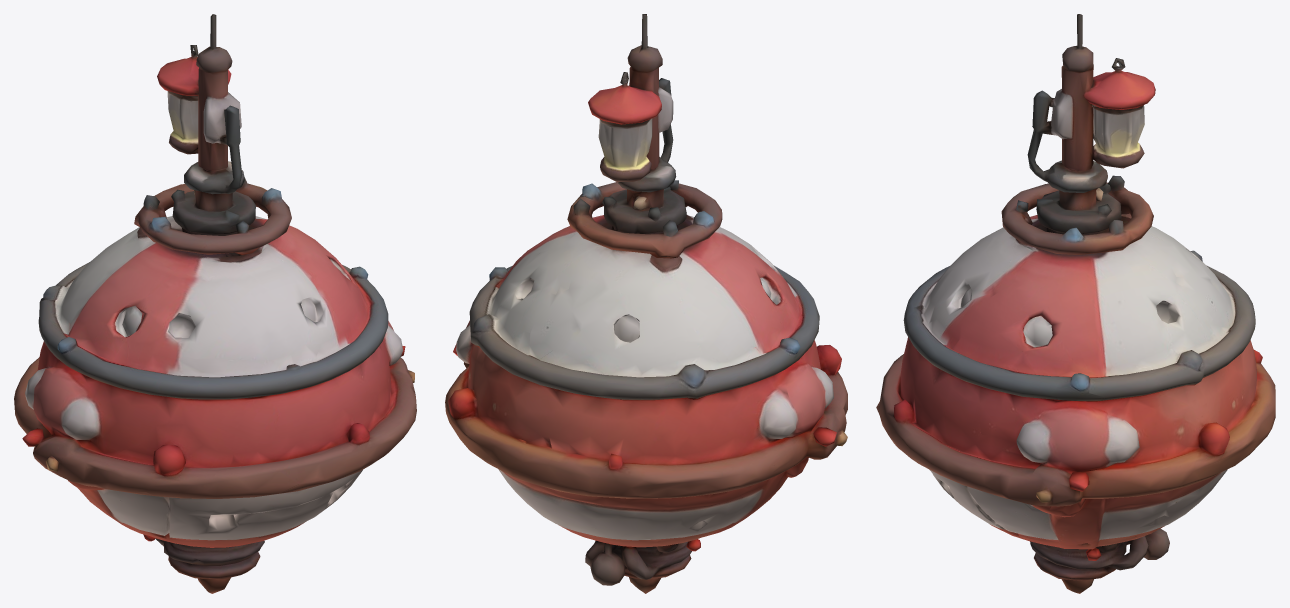
Rendered from talk-buoy.glb.
The picture shows the model from 3 angles, left to right: view 1: azimuth 30°, elevation 25°; view 2: azimuth 150°, elevation 25°; view 3: azimuth 270°, elevation 25°; orthographic projection.
Visible parts, largest first — view 1: tripo_node_931b73df-f0f5-4013-b792-71ee47dcda40; view 2: tripo_node_931b73df-f0f5-4013-b792-71ee47dcda40; view 3: tripo_node_931b73df-f0f5-4013-b792-71ee47dcda40.
Part boxes in pixels (<box>): tripo_node_931b73df-f0f5-4013-b792-71ee47dcda40: <box>14,14,416,593</box>; tripo_node_931b73df-f0f5-4013-b792-71ee47dcda40: <box>445,14,847,593</box>; tripo_node_931b73df-f0f5-4013-b792-71ee47dcda40: <box>876,14,1275,593</box>.
Bounding box in the file's own units: 1.51 × 2.2 × 1.37.
Materials: 1 (1 with a texture image).
